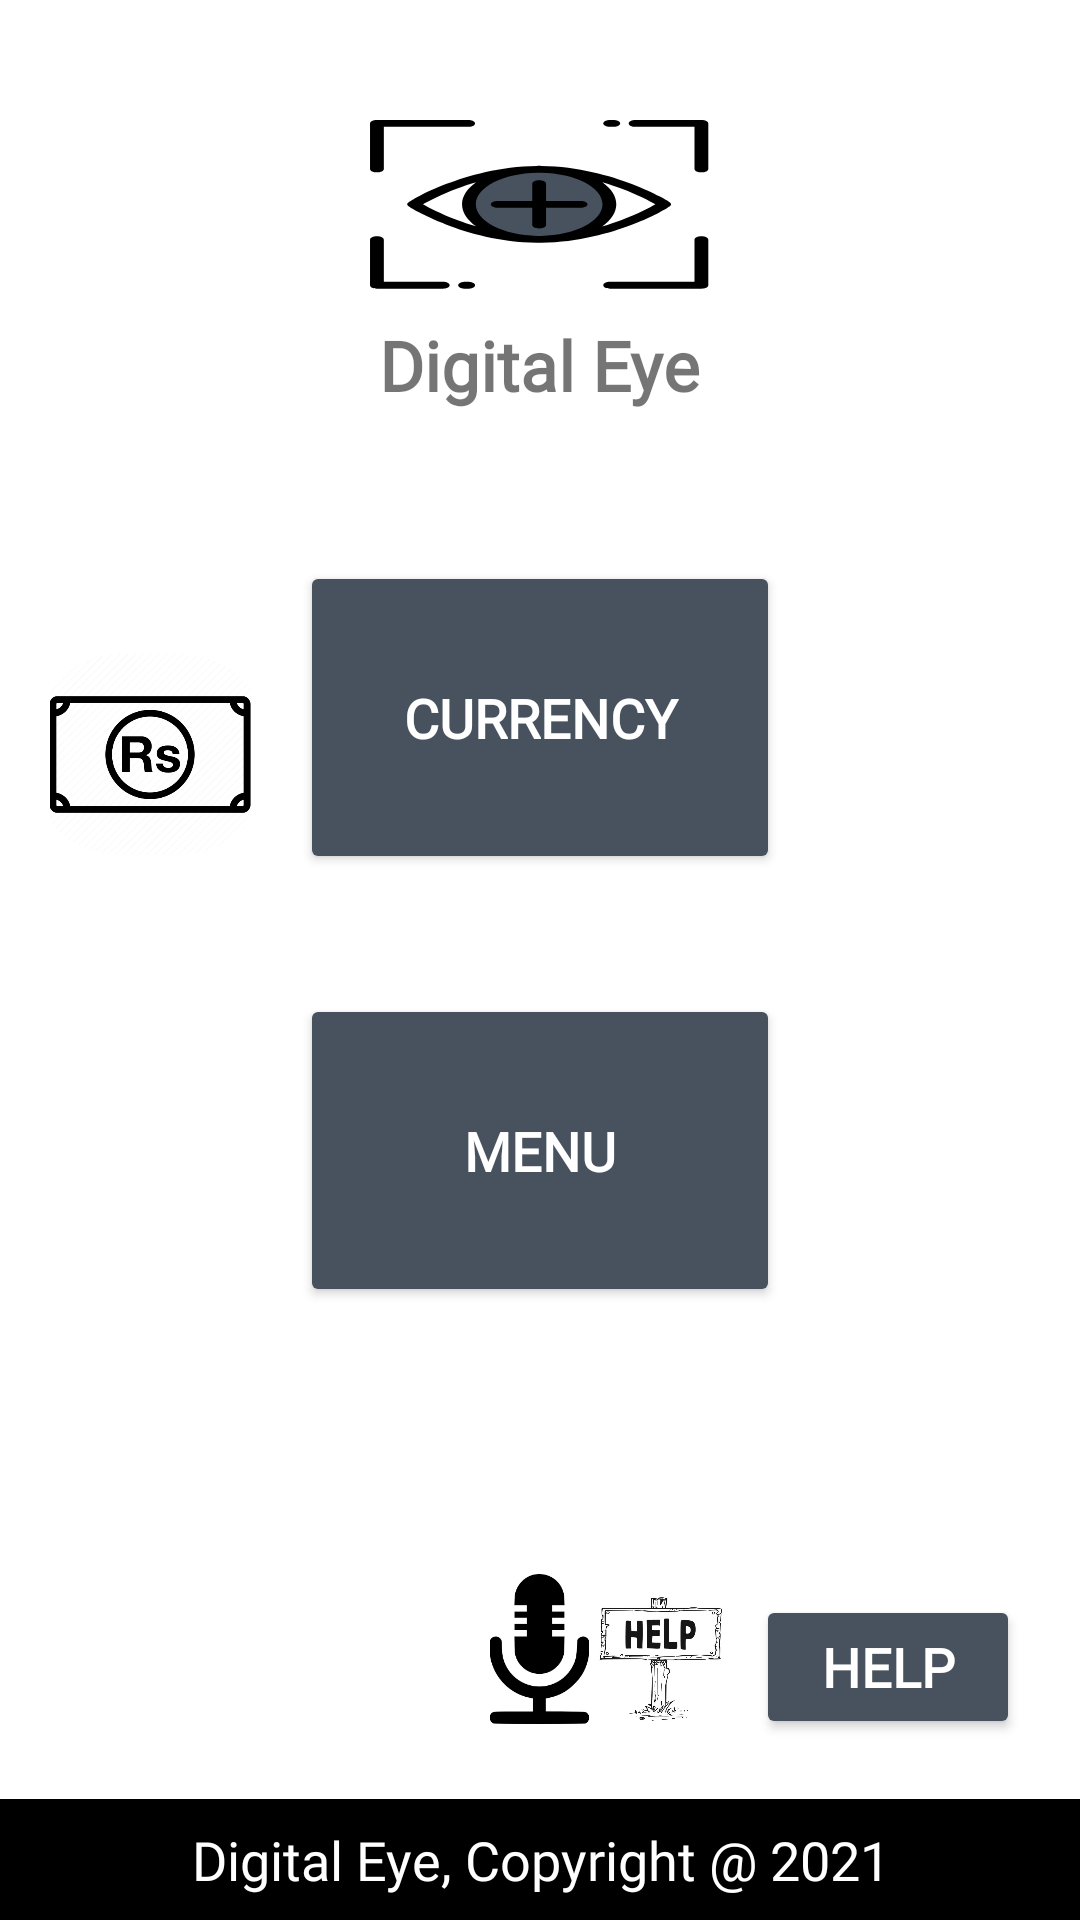

Icons on this 1080w x 1920h Android screen, each with its box as (x1, y1, x2, y2):
mic: (490, 1574, 645, 1724)
